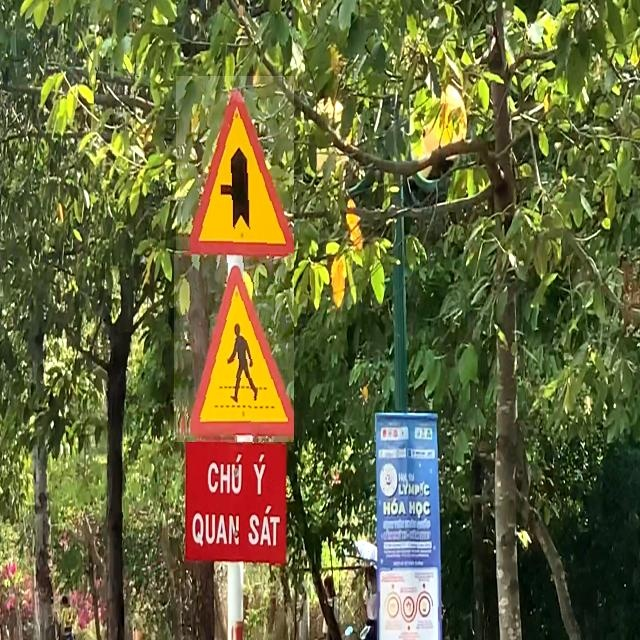bien_nguy_hiem: (174, 252, 294, 442), (176, 76, 294, 261)
